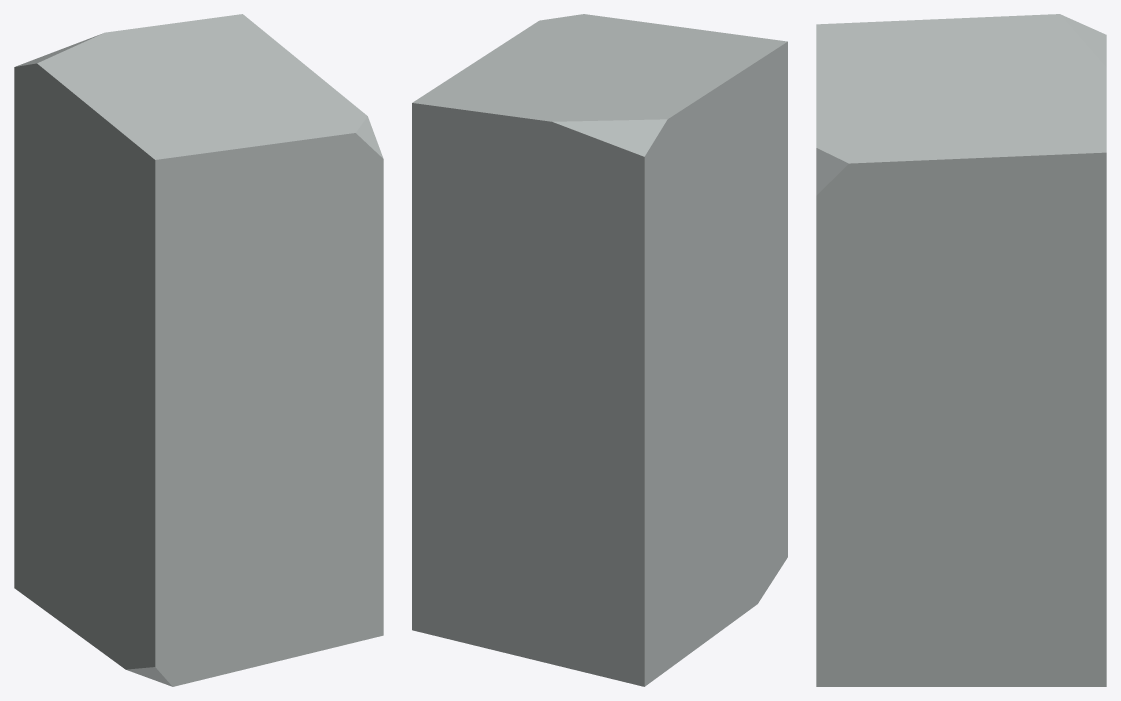
Rendered from Rock_Square_m_15.fbx.
3 views of the same model, side by side, from view 1: azimuth 30°, elevation 25°; view 2: azimuth 150°, elevation 25°; view 3: azimuth 270°, elevation 25° (orthographic). The views are drawn at different scales.
Visible parts, largest first — view 1: Rock_Square_m_15; view 2: Rock_Square_m_15; view 3: Rock_Square_m_15.
Part boxes in pixels (bbox=[...]): Rock_Square_m_15: bbox=[14, 14, 383, 686]; Rock_Square_m_15: bbox=[412, 14, 787, 686]; Rock_Square_m_15: bbox=[816, 14, 1106, 686].
Size of the model in its own units: 40.44 by 91.55 by 43.2.
